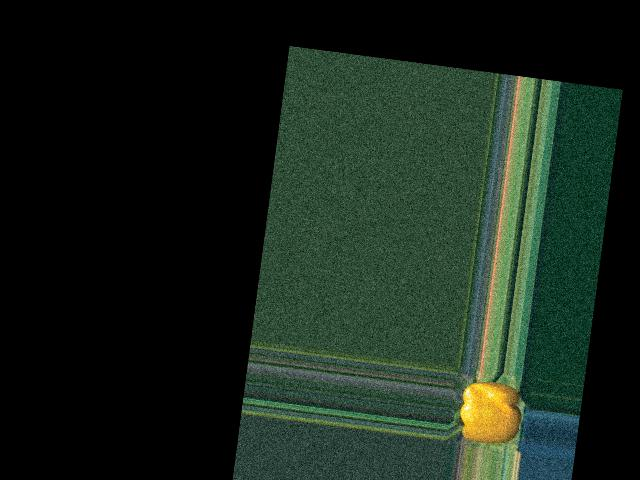bell_pepper: (450, 372, 526, 451)
